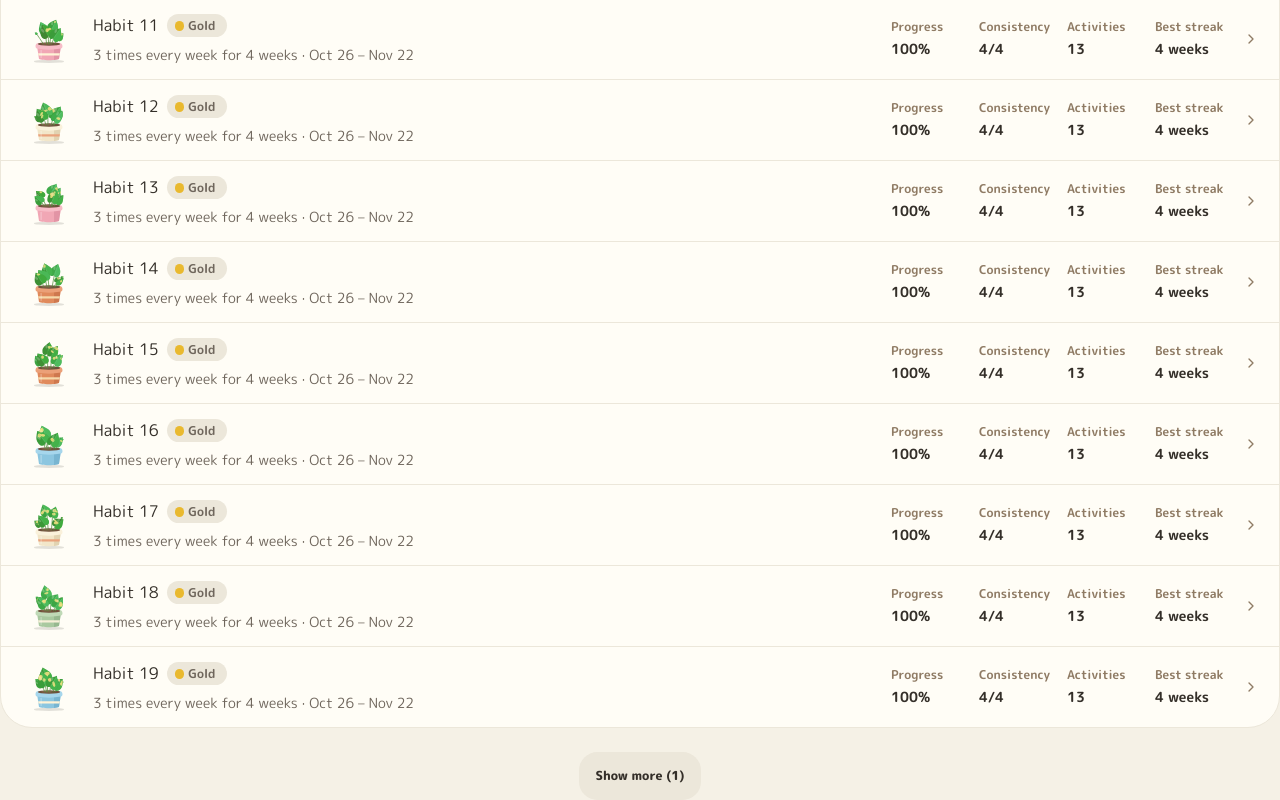
it: History page › loads 20 more with Show more
(page scrolled)
Step 1. Click the button "Show more (1)" → point(640, 776), box [580,752,700,799]
(page scrolled)
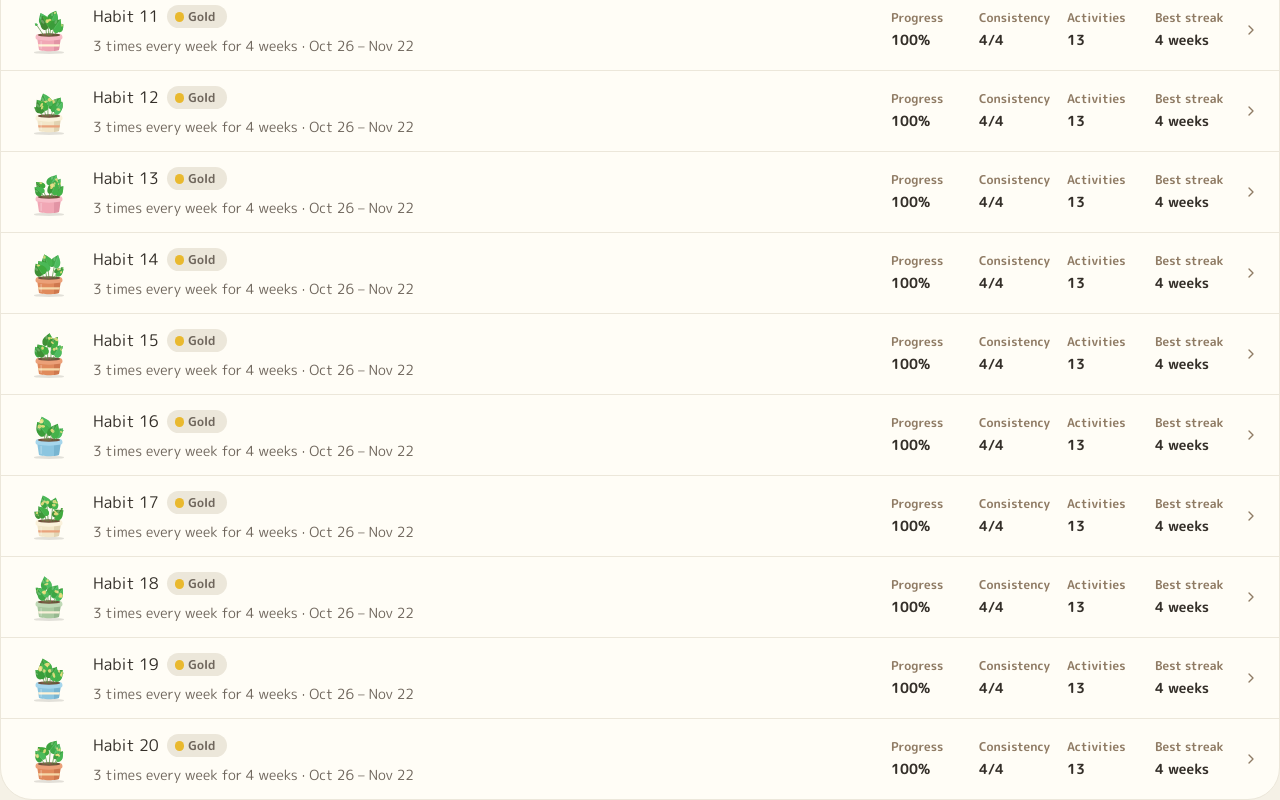
Expected: the link "Habit 20" is shown, [1,719,1279,799]
Expected: the button "Show more" is gone
